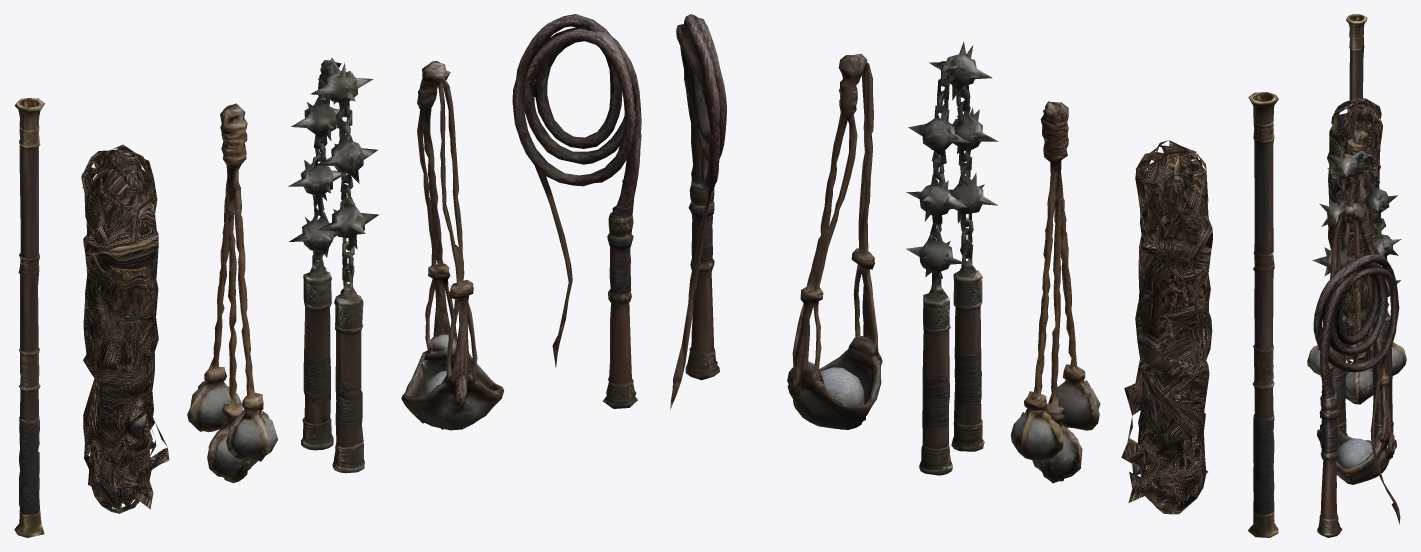
The model's file is weapons_exotic.glb.
3 renders of one model, left to right at view 1: azimuth 30°, elevation 25°; view 2: azimuth 150°, elevation 25°; view 3: azimuth 270°, elevation 25°, orthographic. The views are drawn at different scales.
Visible parts, largest first — view 1: weapon_net, weapon_spiked_chain, weapon_whip, weapon_sling, weapon_bolas, weapon_blowgun; view 2: weapon_net, weapon_spiked_chain, weapon_sling, weapon_bolas, weapon_whip, weapon_blowgun; view 3: weapon_whip, weapon_spiked_chain, weapon_net, weapon_sling, weapon_bolas, weapon_blowgun.
Boxes of the visible parts, x1=… form: weapon_net: x1=81, y1=144, x2=169, y2=513; weapon_spiked_chain: x1=288, y1=58, x2=378, y2=473; weapon_whip: x1=512, y1=14, x2=641, y2=408; weapon_sling: x1=401, y1=61, x2=503, y2=430; weapon_bolas: x1=187, y1=103, x2=277, y2=483; weapon_blowgun: x1=14, y1=98, x2=44, y2=537; weapon_net: x1=1121, y1=140, x2=1212, y2=514; weapon_spiked_chain: x1=906, y1=41, x2=998, y2=475; weapon_sling: x1=787, y1=53, x2=882, y2=429; weapon_bolas: x1=1010, y1=101, x2=1100, y2=483; weapon_whip: x1=670, y1=14, x2=726, y2=409; weapon_blowgun: x1=1248, y1=92, x2=1278, y2=537; weapon_whip: x1=1313, y1=254, x2=1400, y2=537; weapon_spiked_chain: x1=1312, y1=146, x2=1401, y2=441; weapon_net: x1=1327, y1=97, x2=1388, y2=363; weapon_sling: x1=1317, y1=203, x2=1396, y2=484; weapon_bolas: x1=1307, y1=128, x2=1406, y2=404; weapon_blowgun: x1=1346, y1=14, x2=1367, y2=108.
Bounding box in the file's own units: 0.8369 × 0.5684 × 0.1637.
1 material, 1 textured.
